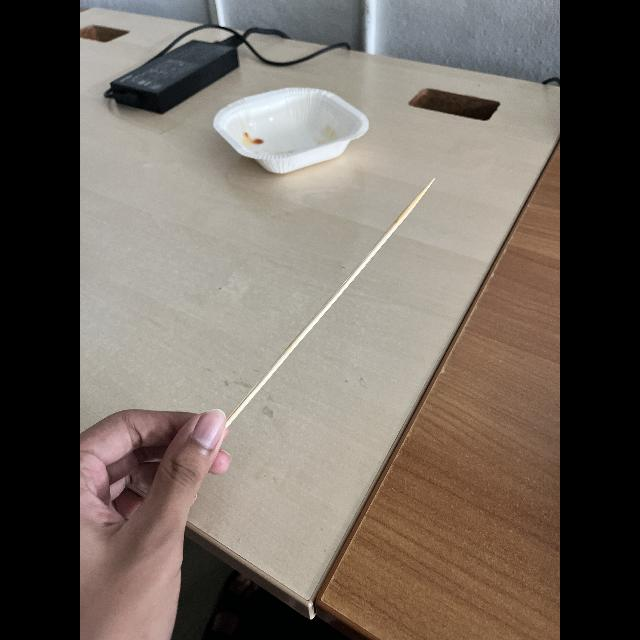cardboard_bowl: (208, 74, 374, 196)
stick: (228, 176, 436, 420)
